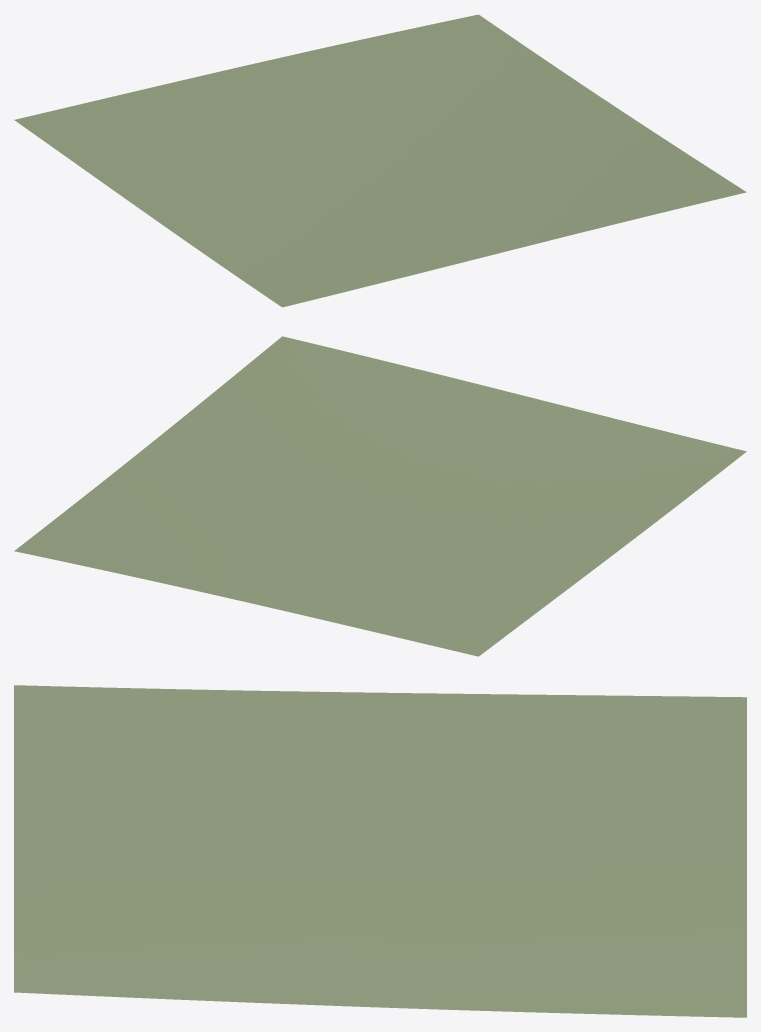
The model's file is expanse-1-9.glb.
The picture shows the model from 3 angles, top to bottom: view 1: azimuth 30°, elevation 25°; view 2: azimuth 150°, elevation 25°; view 3: azimuth 270°, elevation 25°; orthographic projection. The views are drawn at different scales.
Parts seen in each view (by area): view 1: expanse-1-9; view 2: expanse-1-9; view 3: expanse-1-9.
Part boxes in pixels (<box>): expanse-1-9: <box>14,14,746,307</box>; expanse-1-9: <box>14,336,746,656</box>; expanse-1-9: <box>14,685,746,1017</box>.
Bounding box in the file's own units: 256 × 9.91 × 256.
